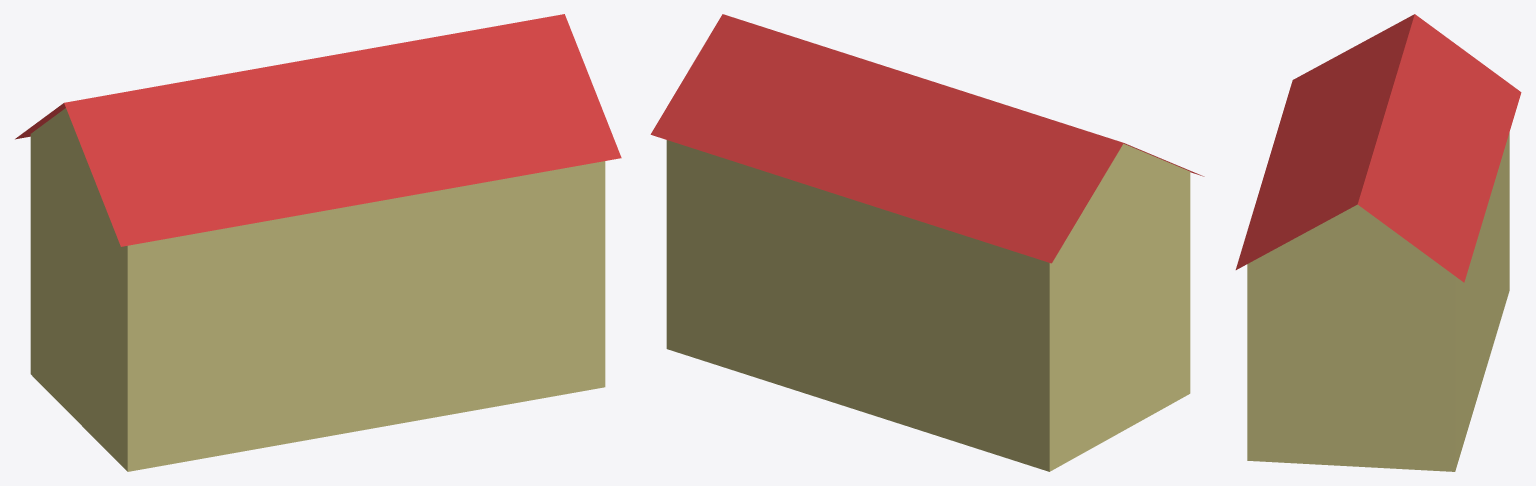
The picture shows the model from 3 angles, left to right: view 1: azimuth 30°, elevation 25°; view 2: azimuth 150°, elevation 25°; view 3: azimuth 270°, elevation 25°; orthographic projection. The views are drawn at different scales.
Size of the model in its own units: 22.85 by 13.62 by 14.02.
